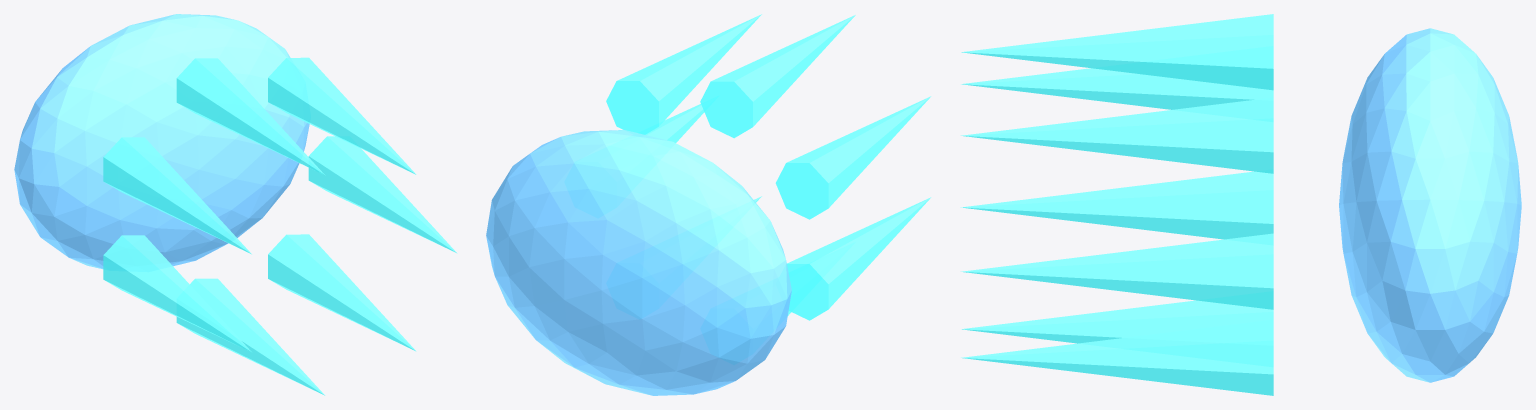
File: 21_Bioluminescent_Cloud_Forest_Plant.glb
3 renders of one model, left to right at view 1: azimuth 30°, elevation 25°; view 2: azimuth 150°, elevation 25°; view 3: azimuth 270°, elevation 25°, orthographic. The views are drawn at different scales.
Parts seen in each view (by area): view 1: 21_Bioluminescent_Cloud_Forest_Plant_00, 21_Bioluminescent_Cloud_Forest_Plant_03, 21_Bioluminescent_Cloud_Forest_Plant_05, 21_Bioluminescent_Cloud_Forest_Plant_04, 21_Bioluminescent_Cloud_Forest_Plant_07, 21_Bioluminescent_Cloud_Forest_Plant_02, 21_Bioluminescent_Cloud_Forest_Plant_01, 21_Bioluminescent_Cloud_Forest_Plant_06; view 2: 21_Bioluminescent_Cloud_Forest_Plant_00, 21_Bioluminescent_Cloud_Forest_Plant_04, 21_Bioluminescent_Cloud_Forest_Plant_03, 21_Bioluminescent_Cloud_Forest_Plant_02, 21_Bioluminescent_Cloud_Forest_Plant_05, 21_Bioluminescent_Cloud_Forest_Plant_01; view 3: 21_Bioluminescent_Cloud_Forest_Plant_00, 21_Bioluminescent_Cloud_Forest_Plant_02, 21_Bioluminescent_Cloud_Forest_Plant_07, 21_Bioluminescent_Cloud_Forest_Plant_01, 21_Bioluminescent_Cloud_Forest_Plant_03, 21_Bioluminescent_Cloud_Forest_Plant_05, 21_Bioluminescent_Cloud_Forest_Plant_04, 21_Bioluminescent_Cloud_Forest_Plant_06.
Boxes of the visible parts, x1,y1,x2,y2 form: 21_Bioluminescent_Cloud_Forest_Plant_00: (14, 14, 309, 269); 21_Bioluminescent_Cloud_Forest_Plant_03: (176, 58, 325, 175); 21_Bioluminescent_Cloud_Forest_Plant_05: (103, 235, 251, 352); 21_Bioluminescent_Cloud_Forest_Plant_04: (103, 137, 251, 254); 21_Bioluminescent_Cloud_Forest_Plant_07: (268, 234, 416, 351); 21_Bioluminescent_Cloud_Forest_Plant_02: (268, 57, 416, 174); 21_Bioluminescent_Cloud_Forest_Plant_01: (308, 136, 457, 253); 21_Bioluminescent_Cloud_Forest_Plant_06: (176, 278, 325, 395); 21_Bioluminescent_Cloud_Forest_Plant_00: (486, 130, 791, 395); 21_Bioluminescent_Cloud_Forest_Plant_04: (775, 96, 931, 219); 21_Bioluminescent_Cloud_Forest_Plant_03: (700, 15, 855, 138); 21_Bioluminescent_Cloud_Forest_Plant_02: (606, 14, 761, 134); 21_Bioluminescent_Cloud_Forest_Plant_05: (787, 197, 931, 320); 21_Bioluminescent_Cloud_Forest_Plant_01: (645, 104, 704, 142); 21_Bioluminescent_Cloud_Forest_Plant_00: (1339, 28, 1521, 382); 21_Bioluminescent_Cloud_Forest_Plant_02: (961, 97, 1273, 173); 21_Bioluminescent_Cloud_Forest_Plant_07: (961, 319, 1273, 395); 21_Bioluminescent_Cloud_Forest_Plant_01: (961, 233, 1273, 309); 21_Bioluminescent_Cloud_Forest_Plant_03: (961, 14, 1273, 90); 21_Bioluminescent_Cloud_Forest_Plant_05: (960, 171, 1273, 239); 21_Bioluminescent_Cloud_Forest_Plant_04: (961, 68, 1273, 109); 21_Bioluminescent_Cloud_Forest_Plant_06: (961, 300, 1273, 343).
Size of the model in its own units: 3.2 by 2.92 by 4.3.
